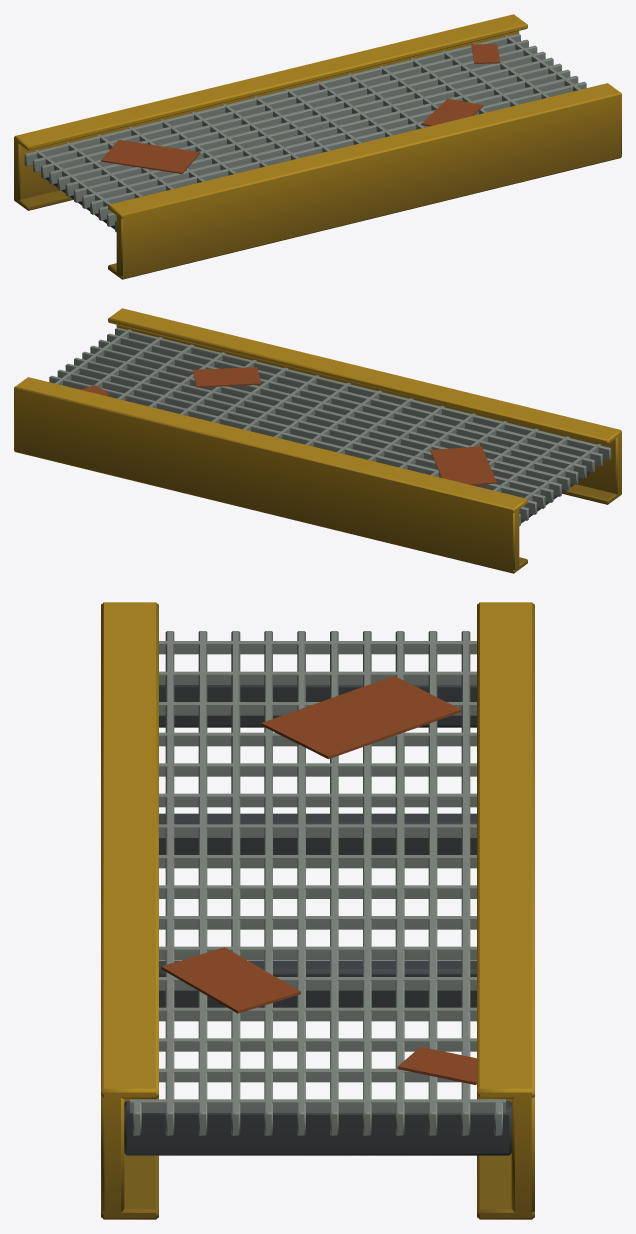
File: 16_passerelle.fbx
The picture shows the model from 3 angles, top to bottom: view 1: azimuth 30°, elevation 25°; view 2: azimuth 150°, elevation 25°; view 3: azimuth 270°, elevation 25°; orthographic projection. The views are drawn at different scales.
Visible parts, largest first — view 1: Passerelle; view 2: Passerelle; view 3: Passerelle.
Boxes of the visible parts, x1,y1,x2,y2 form: Passerelle: [14, 14, 621, 279]; Passerelle: [14, 308, 621, 573]; Passerelle: [101, 602, 534, 1219].
Bounding box in the file's own units: 2.24 × 0.28 × 0.84.
Materials: 1 (1 with a texture image).
